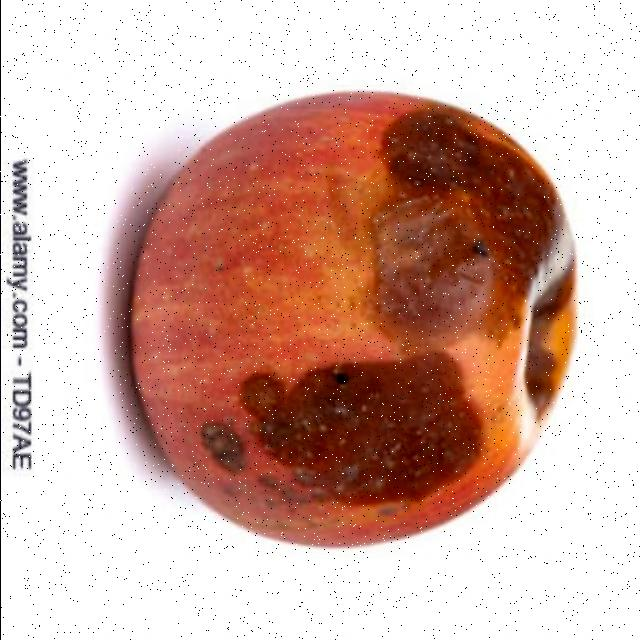ROT: (79, 70, 588, 588)
